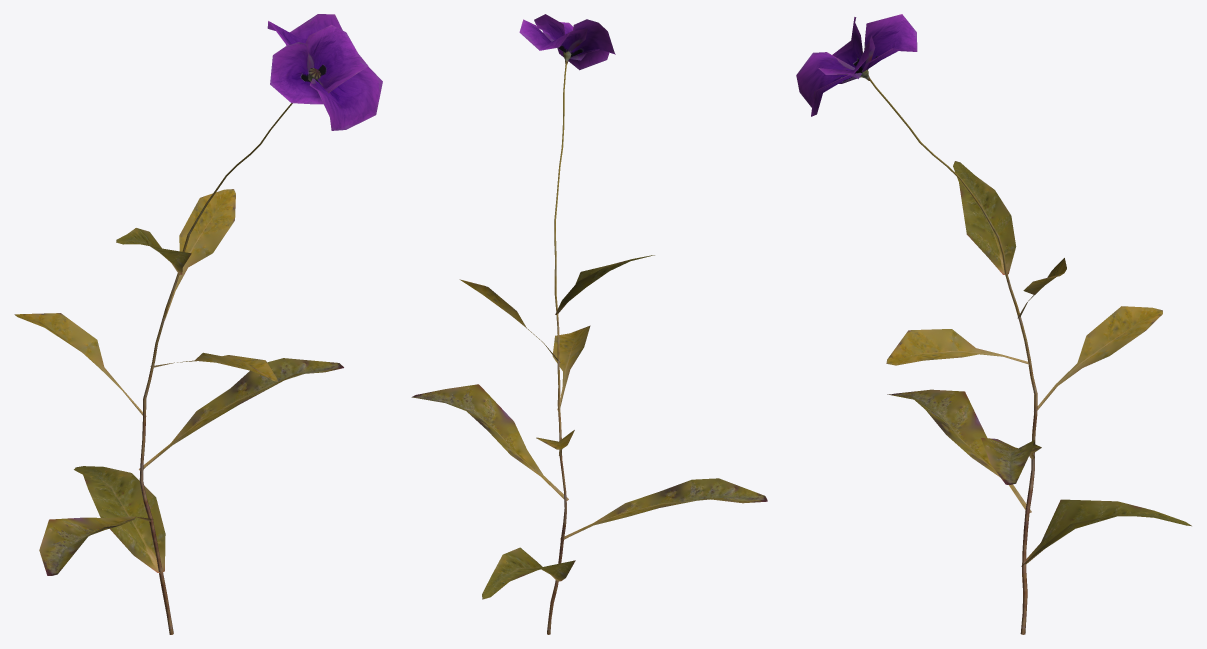
Rendered from Poppy_OG_normal_purple.glb.
3 renders of one model, left to right at view 1: azimuth 30°, elevation 25°; view 2: azimuth 150°, elevation 25°; view 3: azimuth 270°, elevation 25°, orthographic. The views are drawn at different scales.
Parts seen in each view (by area): view 1: xtall; view 2: xtall; view 3: xtall.
Boxes of the visible parts, bbox=[...] form: xtall: bbox=[14, 14, 382, 634]; xtall: bbox=[411, 14, 767, 634]; xtall: bbox=[796, 14, 1191, 634].
Bounding box in the file's own units: 1.75 × 3.06 × 1.73.
1 material, 1 textured.
